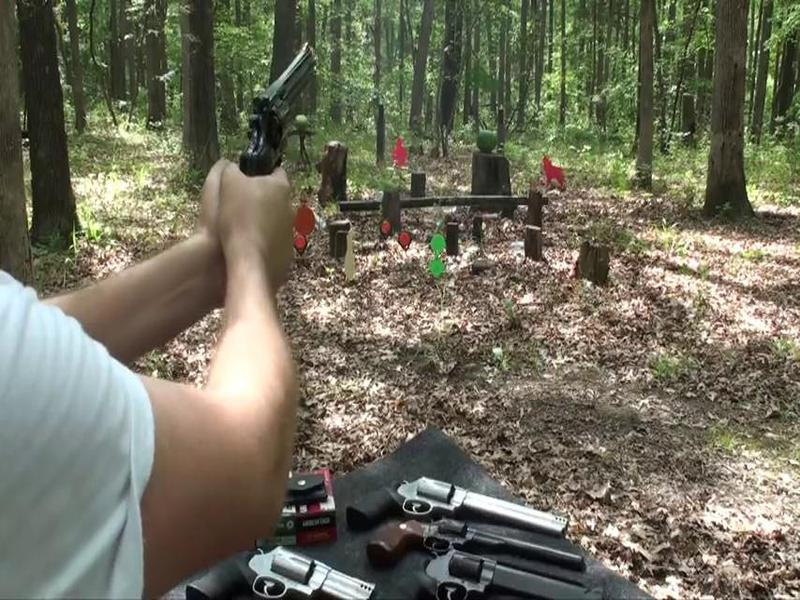Revolver: (224, 35, 324, 200)
